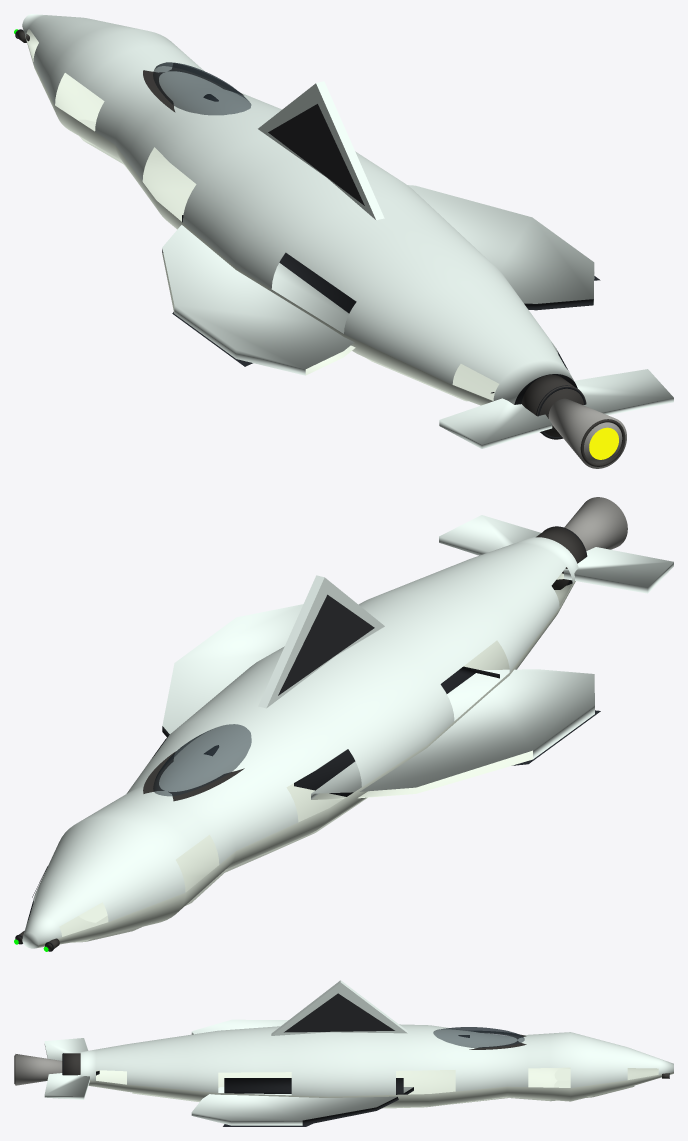
Rendered from Ship_Orca_29300.glb.
3 views of the same model, one above another, from view 1: azimuth 30°, elevation 25°; view 2: azimuth 150°, elevation 25°; view 3: azimuth 270°, elevation 25° (orthographic). The views are drawn at different scales.
Parts seen in each view (by area): view 1: Fuselage_OrcaCountershadedHull, PectoralFin_Left_AerofoilWingFin, PectoralFin_Right_AerofoilWingFin, CanopyGlass_LowInsetDome, TailFluke_Left_SweptAftStabilizer, DorsalFin_MainSweptKeel, DorsalFinTrimPatch_LeftFace, TailFluke_Right_SweptAftStabilizer, EngineBell_MainLargeBurnishedNozzle, EngineMount_AftIntegratedRoundSocket, PectoralFinRoot_Left_BlendedShoulder, CanopyFrame_LowInsetOvalRim (+1 smaller); view 2: Fuselage_OrcaCountershadedHull, PectoralFin_Left_AerofoilWingFin, PectoralFin_Right_AerofoilWingFin, CanopyGlass_LowInsetDome, DorsalFinTrimPatch_LeftFace, DorsalFin_MainSweptKeel, TailFluke_Left_SweptAftStabilizer, EngineBell_MainLargeBurnishedNozzle, TailFluke_Right_SweptAftStabilizer, PectoralFinRoot_Left_BlendedShoulder, PaintBelly_LongCountershadeKeelPatch, CanopyFrame_LowInsetOvalRim (+1 smaller); view 3: Fuselage_OrcaCountershadedHull, PectoralFin_Right_AerofoilWingFin, DorsalFinTrimPatch_RightFace, DorsalFin_MainSweptKeel, CanopyGlass_LowInsetDome, PectoralFinRoot_Right_BlendedShoulder, EngineBell_MainLargeBurnishedNozzle, TailFluke_Right_SweptAftStabilizer, PaintBelly_LongCountershadeKeelPatch, PectoralFin_Left_AerofoilWingFin, TailFluke_Left_SweptAftStabilizer, EngineMount_AftIntegratedRoundSocket (+1 smaller).
Part boxes in pixels (x1,y1,x2,y2): Fuselage_OrcaCountershadedHull: (22, 14, 577, 405); PectoralFin_Left_AerofoilWingFin: (162, 225, 355, 375); PectoralFin_Right_AerofoilWingFin: (407, 185, 594, 310); CanopyGlass_LowInsetDome: (153, 62, 251, 115); TailFluke_Left_SweptAftStabilizer: (439, 398, 552, 448); DorsalFin_MainSweptKeel: (258, 81, 384, 220); DorsalFinTrimPatch_LeftFace: (268, 104, 364, 205); TailFluke_Right_SweptAftStabilizer: (574, 369, 673, 415); EngineBell_MainLargeBurnishedNozzle: (548, 398, 626, 468); EngineMount_AftIntegratedRoundSocket: (521, 374, 586, 439); PectoralFinRoot_Left_BlendedShoulder: (182, 215, 356, 313); CanopyFrame_LowInsetOvalRim: (143, 63, 243, 112); Fuselage_OrcaCountershadedHull: (22, 537, 578, 948); PectoralFin_Left_AerofoilWingFin: (311, 669, 594, 799); PectoralFin_Right_AerofoilWingFin: (162, 604, 303, 737); CanopyGlass_LowInsetDome: (153, 724, 251, 796); DorsalFinTrimPatch_LeftFace: (278, 594, 374, 695); DorsalFin_MainSweptKeel: (258, 575, 384, 708); TailFluke_Left_SweptAftStabilizer: (556, 547, 673, 593); EngineBell_MainLargeBurnishedNozzle: (564, 497, 627, 550); TailFluke_Right_SweptAftStabilizer: (439, 515, 540, 555); PectoralFinRoot_Left_BlendedShoulder: (294, 666, 499, 796); PaintBelly_LongCountershadeKeelPatch: (72, 797, 367, 942); CanopyFrame_LowInsetOvalRim: (143, 751, 244, 801); Fuselage_OrcaCountershadedHull: (80, 1024, 673, 1107); PectoralFin_Right_AerofoilWingFin: (191, 1087, 413, 1125); DorsalFinTrimPatch_RightFace: (284, 993, 394, 1032); DorsalFin_MainSweptKeel: (271, 980, 407, 1035); CanopyGlass_LowInsetDome: (433, 1027, 524, 1048); PectoralFinRoot_Right_BlendedShoulder: (224, 1078, 403, 1094); EngineBell_MainLargeBurnishedNozzle: (15, 1054, 62, 1085); TailFluke_Right_SweptAftStabilizer: (44, 1070, 99, 1099); PaintBelly_LongCountershadeKeelPatch: (132, 1069, 634, 1108); PectoralFin_Left_AerofoilWingFin: (191, 1019, 288, 1034); TailFluke_Left_SweptAftStabilizer: (44, 1038, 88, 1060); EngineMount_AftIntegratedRoundSocket: (62, 1053, 80, 1075).
Bounding box in the file's own units: 3.19 × 1.73 × 8.84.
